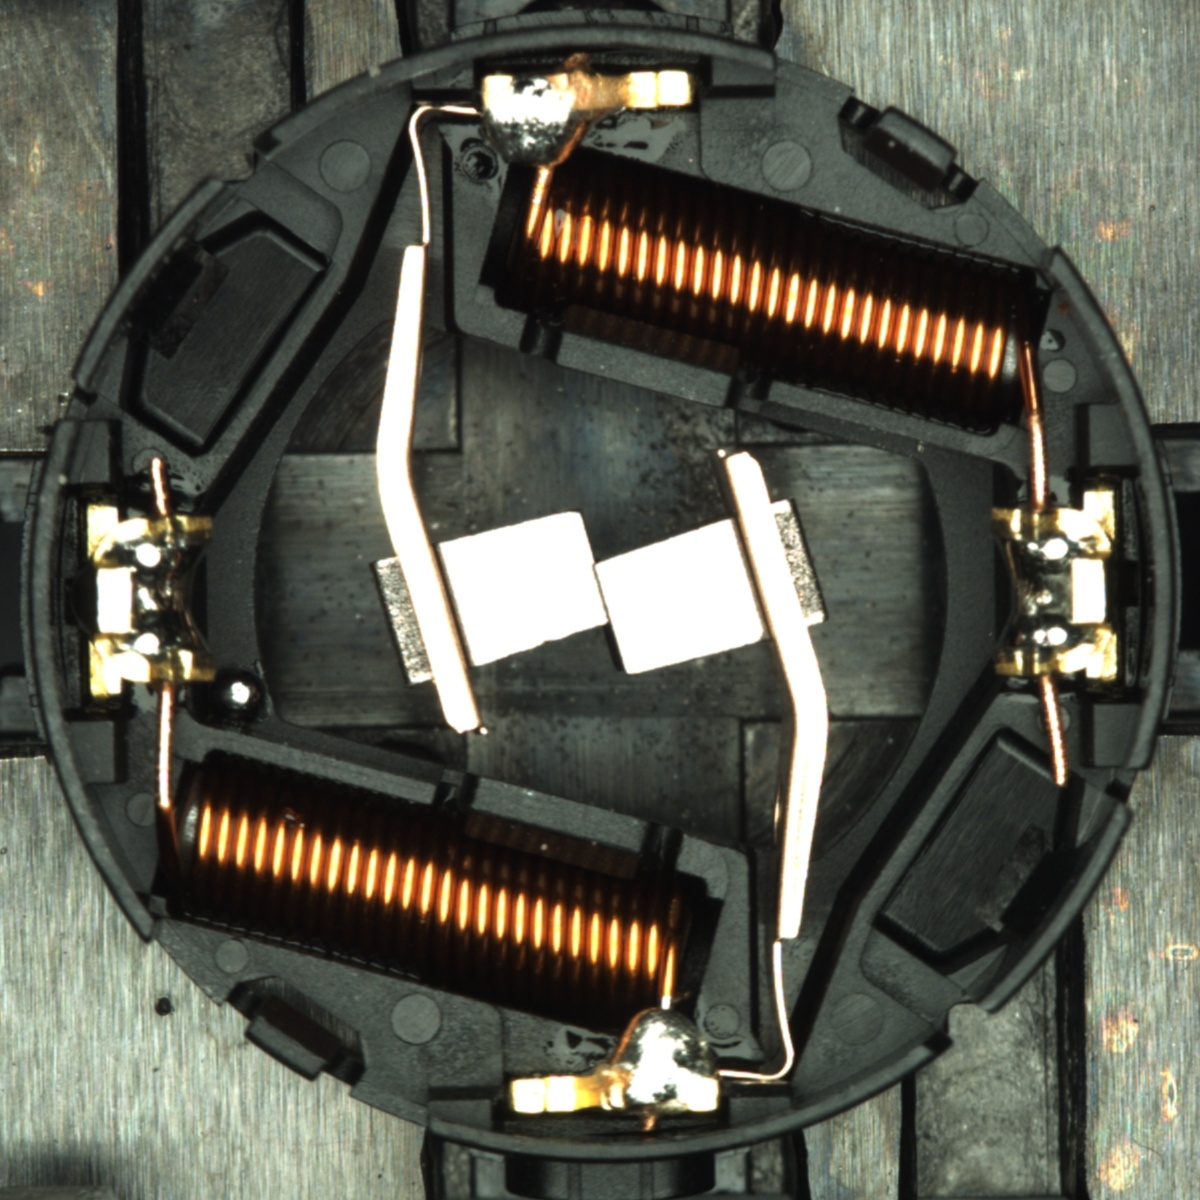1: (713, 929, 943, 1153), (255, 31, 484, 255)
2: (713, 31, 943, 255), (255, 929, 484, 1153)
3: (25, 255, 255, 480), (943, 704, 1171, 929)
4: (255, 255, 484, 480), (713, 704, 943, 929)
5: (484, 143, 713, 368), (484, 816, 713, 1041)
6: (713, 255, 943, 480), (255, 704, 484, 929)
7: (943, 255, 1171, 480), (25, 704, 255, 929)
cacbon: (401, 499, 796, 685)
chau_dien: (80, 497, 221, 699), (984, 488, 1123, 687)
hat_chi: (216, 669, 265, 718)
tay_choi: (509, 1007, 722, 1115), (479, 69, 696, 174)
thanh_de: (954, 790, 1140, 1030), (59, 165, 243, 404)
